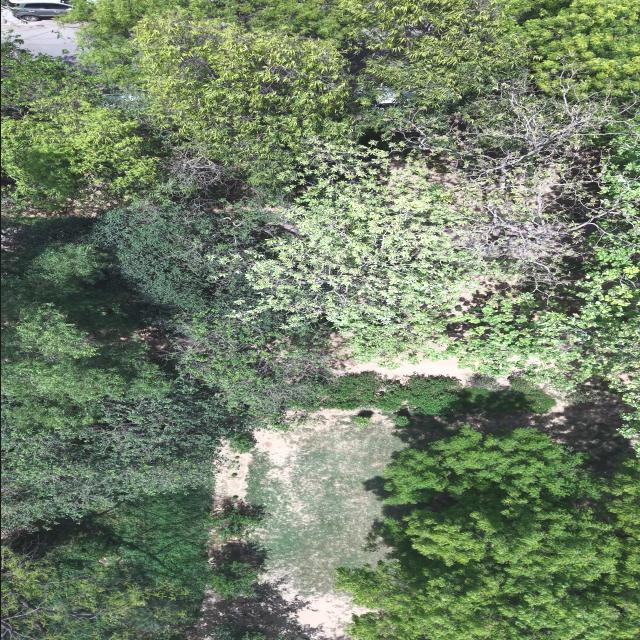DRY_AREA: (203, 409, 424, 639), (204, 409, 403, 639), (215, 410, 403, 639), (247, 410, 403, 602), (332, 333, 474, 383), (1, 7, 78, 61), (338, 357, 474, 383)
VEGETATION_TREE: (1, 0, 639, 639), (71, 0, 639, 404), (252, 0, 638, 387), (249, 96, 638, 387), (1, 220, 243, 528), (337, 427, 639, 639), (93, 198, 326, 425), (135, 13, 351, 184), (1, 381, 242, 528), (1, 491, 209, 639), (244, 412, 406, 601), (1, 41, 163, 218), (65, 0, 353, 87), (346, 0, 531, 126), (90, 196, 282, 310), (1, 81, 158, 204), (34, 491, 211, 598), (176, 302, 324, 426), (3, 548, 191, 639), (383, 427, 600, 503), (320, 372, 556, 425), (502, 0, 639, 91), (321, 372, 460, 414), (458, 376, 556, 413), (204, 559, 261, 597), (208, 506, 263, 541), (510, 376, 555, 412), (212, 622, 265, 639), (228, 432, 255, 453), (351, 414, 371, 426), (391, 414, 410, 425), (231, 472, 237, 477)
